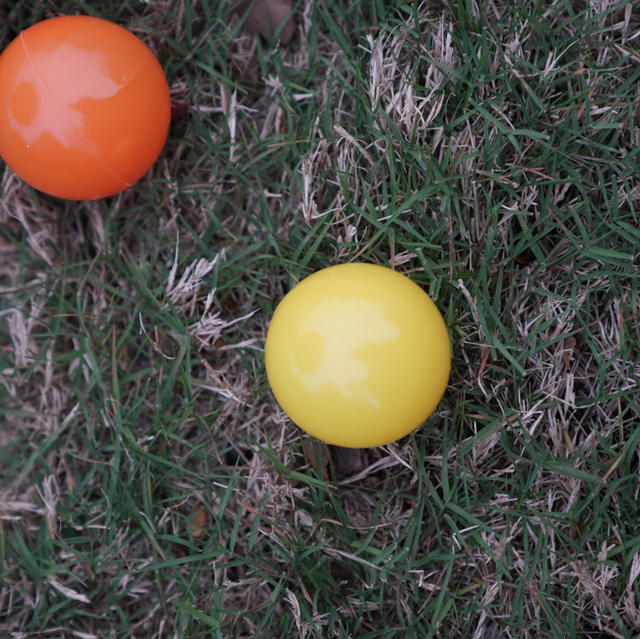Ball: (265, 265, 452, 443)
